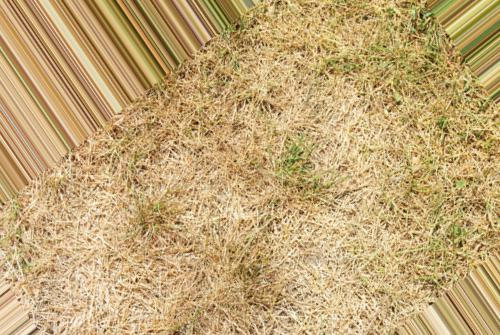patch: (258, 91, 422, 261), (187, 139, 278, 317), (66, 174, 176, 301), (272, 13, 408, 67), (294, 280, 374, 323)
